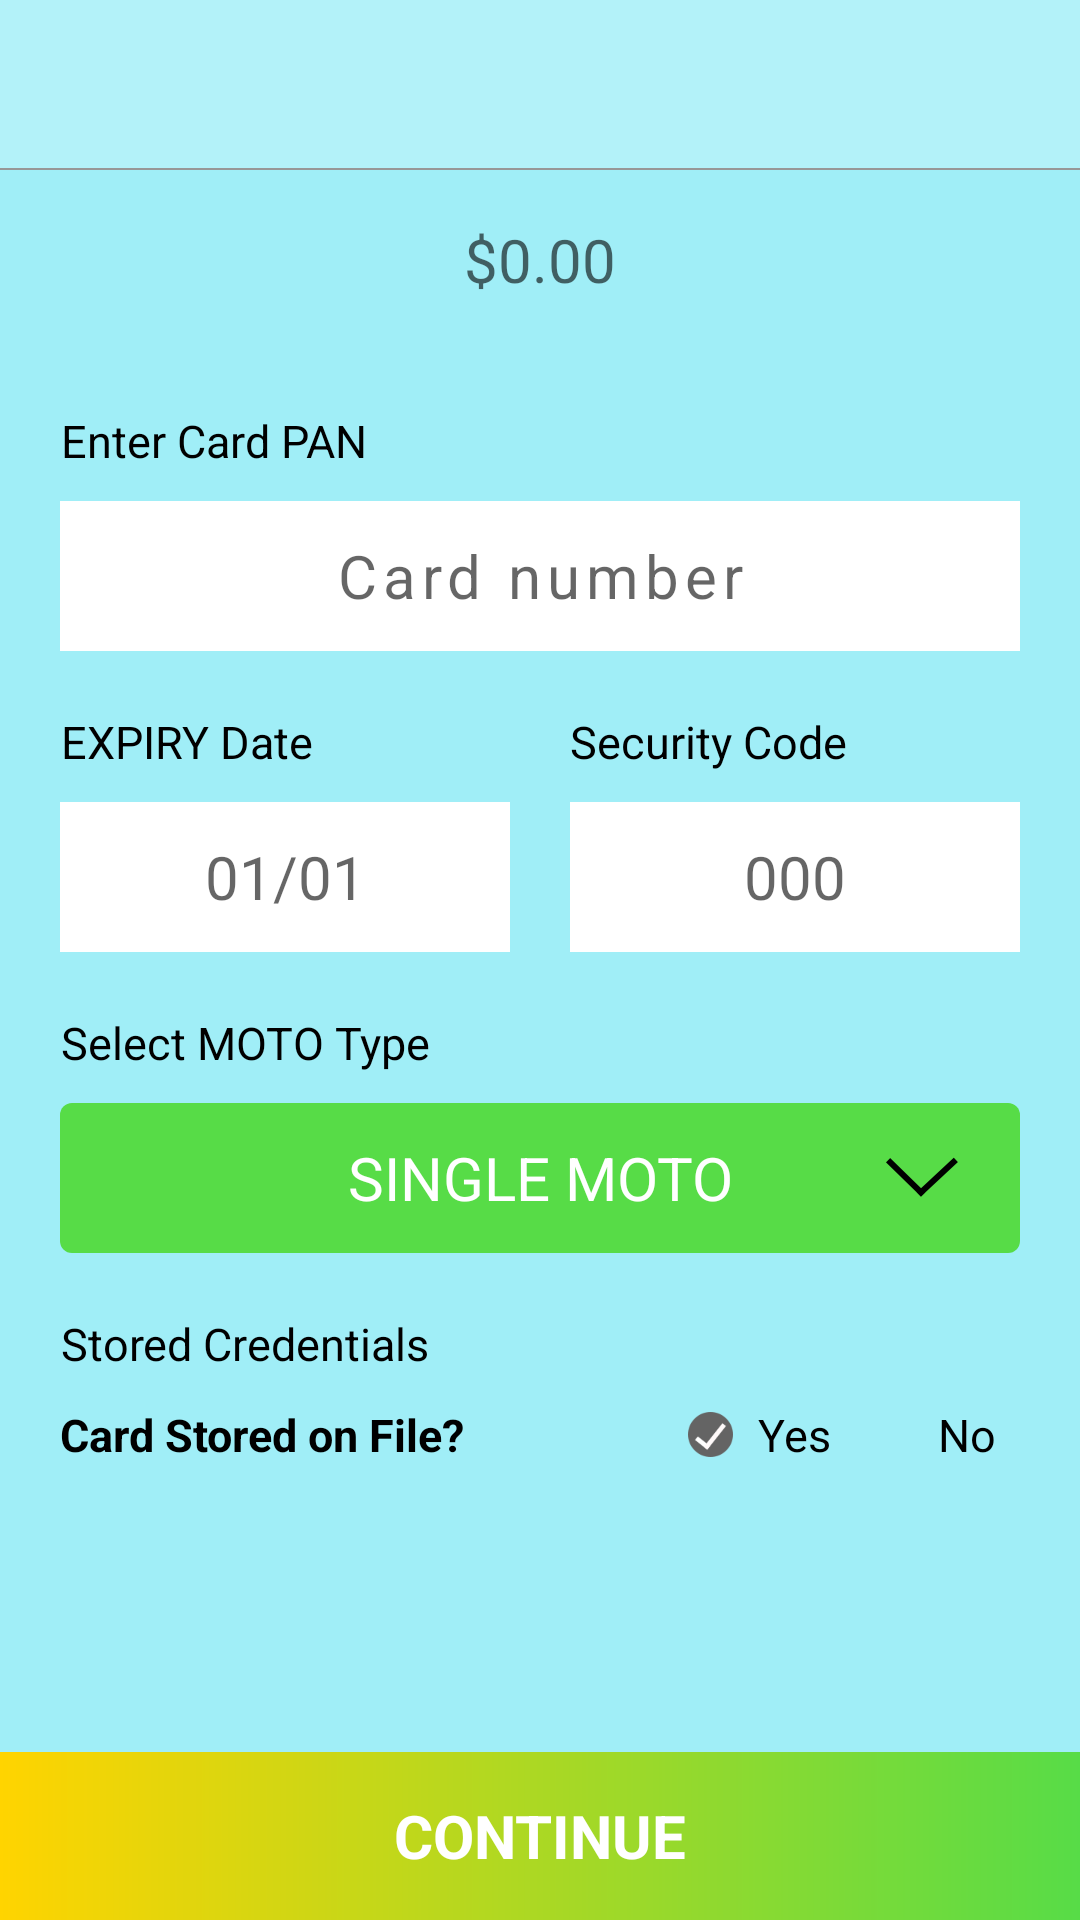

Screen size 1080*1920. Icon name, then its center in pixels as (x=x, y=y):
Select MOTO Type: (x=922, y=1177)
